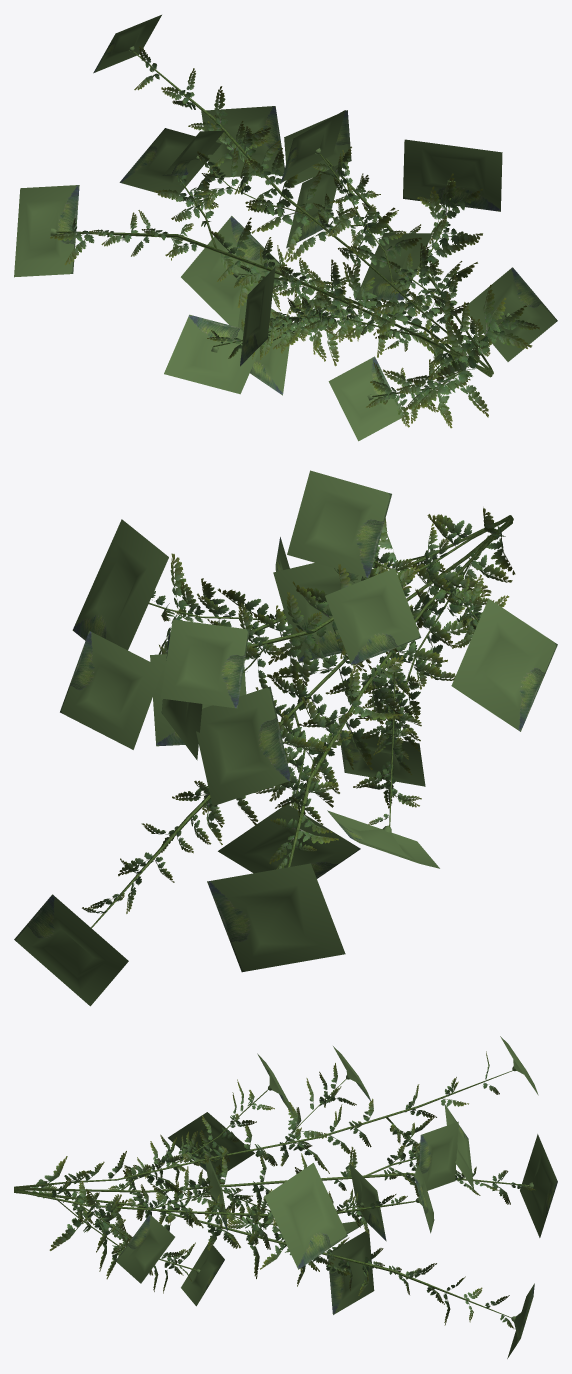
The model's file is plant2.FBX.
3 renders of one model, top to bottom at view 1: azimuth 30°, elevation 25°; view 2: azimuth 150°, elevation 25°; view 3: azimuth 270°, elevation 25°, orthographic. The views are drawn at different scales.
Visible parts, largest first — view 1: plant2_LOD0; view 2: plant2_LOD0; view 3: plant2_LOD0.
Part boxes in pixels (x1,y1,x2,y2): plant2_LOD0: (14,15,557,441); plant2_LOD0: (14,470,557,1006); plant2_LOD0: (14,1036,557,1358).
Bounding box in the file's own units: 18.93 × 30.42 × 17.11.
